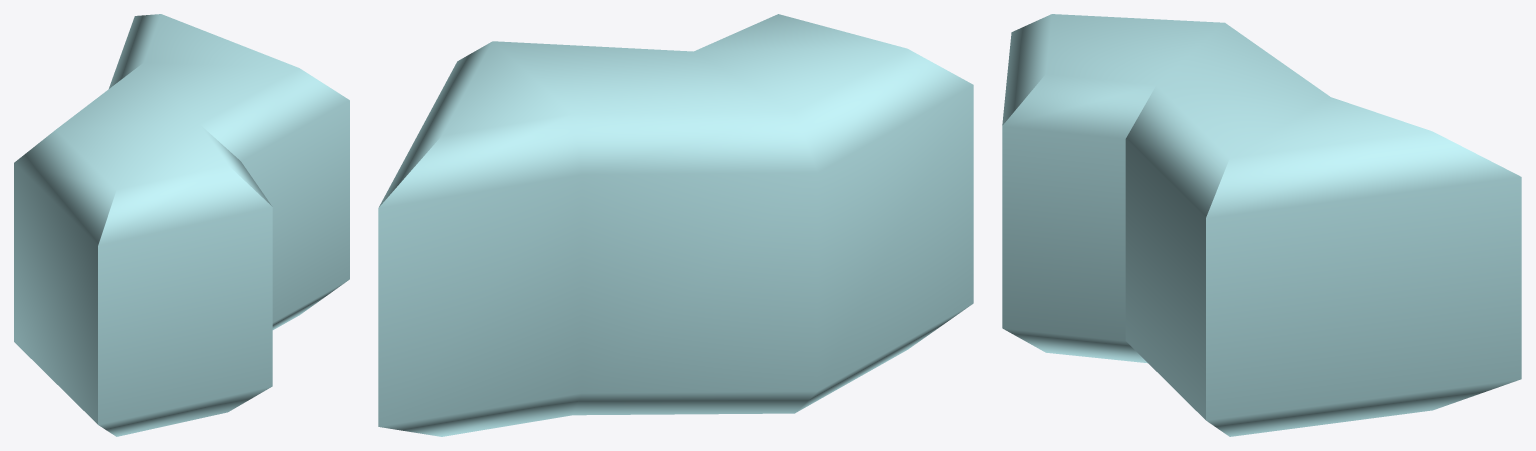
Rendered from ice_floe_small_013.fbx.
3 views of the same model, side by side, from view 1: azimuth 30°, elevation 25°; view 2: azimuth 150°, elevation 25°; view 3: azimuth 270°, elevation 25° (orthographic). The views are drawn at different scales.
Visible parts, largest first — view 1: ice_floe_small_013; view 2: ice_floe_small_013; view 3: ice_floe_small_013.
Part boxes in pixels (x1=…): ice_floe_small_013: x1=14, y1=14, x2=349, y2=436; ice_floe_small_013: x1=378, y1=14, x2=973, y2=436; ice_floe_small_013: x1=1002, y1=14, x2=1521, y2=436.
Bounding box in the file's own units: 99.54 × 118 × 69.62.
